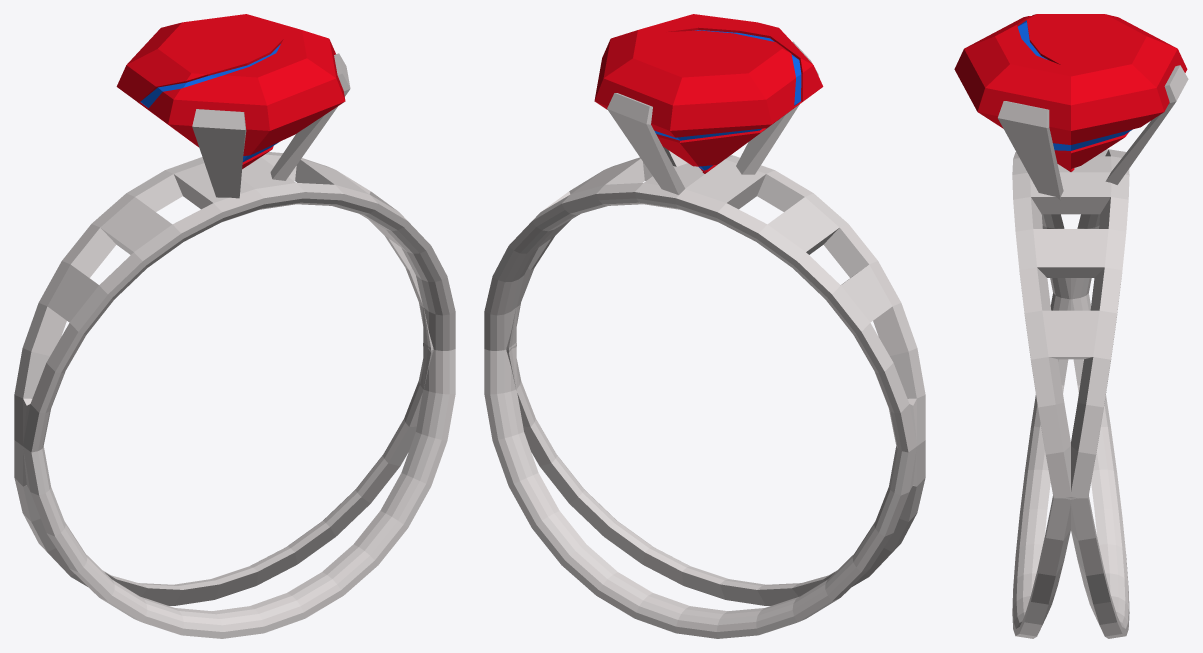
File: ring2.fbx
3 renders of one model, left to right at view 1: azimuth 30°, elevation 25°; view 2: azimuth 150°, elevation 25°; view 3: azimuth 270°, elevation 25°, orthographic.
Visible parts, largest first — view 1: Ring; view 2: Ring; view 3: Ring.
Boxes of the visible parts, x1=… form: Ring: x1=14, y1=14, x2=455, y2=638; Ring: x1=484, y1=14, x2=925, y2=638; Ring: x1=954, y1=14, x2=1188, y2=638.
Size of the model in its own units: 210 by 269 by 99.65.
